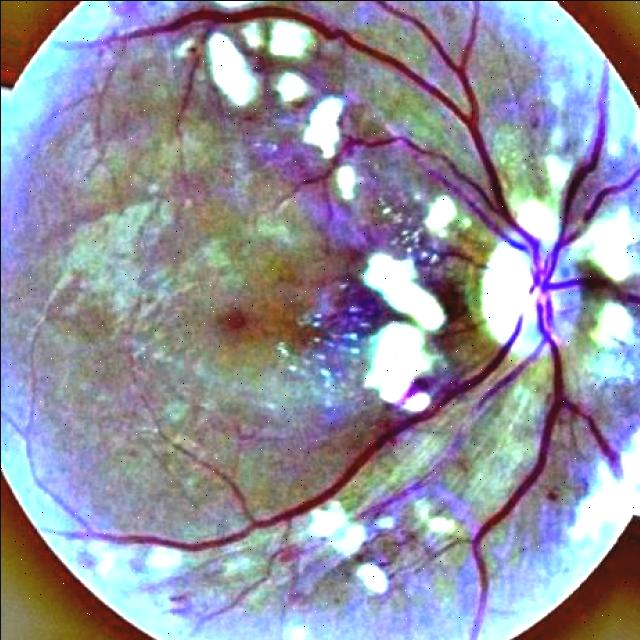Nerves: (69, 0, 640, 640), (583, 159, 640, 222), (359, 472, 429, 515)
Optic Disk: (481, 217, 582, 360)
